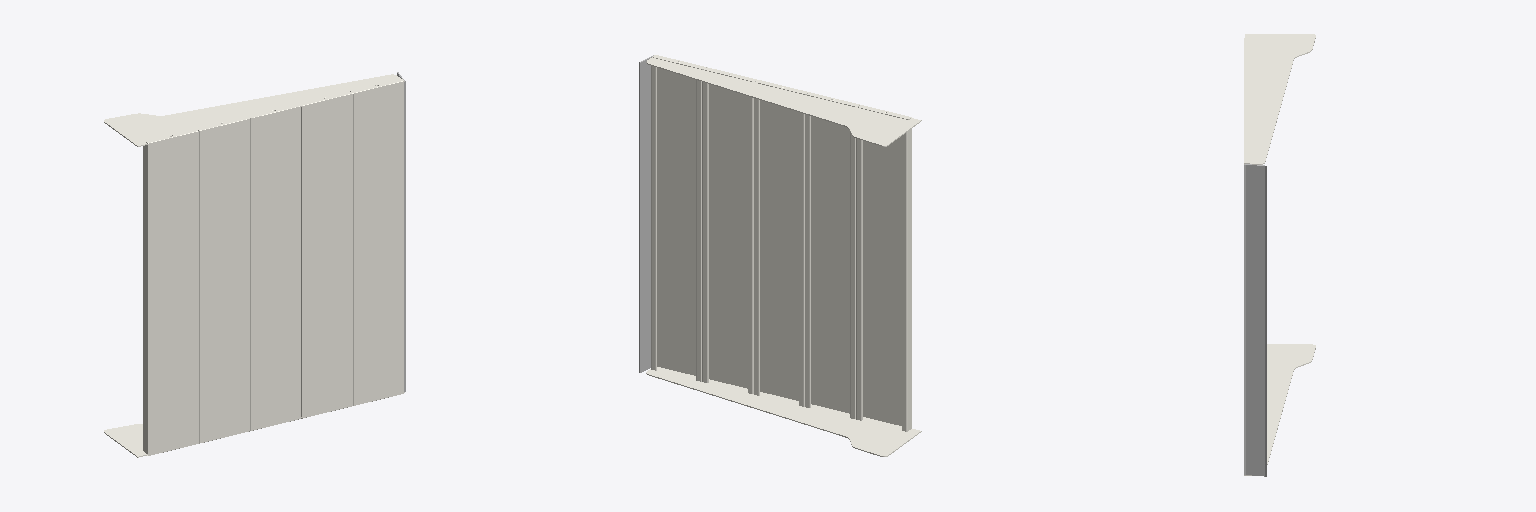
File: ShelfPart02.obj
3 views of the same model, side by side, from view 1: azimuth 30°, elevation 25°; view 2: azimuth 150°, elevation 25°; view 3: azimuth 270°, elevation 25° (orthographic).
Parts seen in each view (by area): view 1: ShelfPart02; view 2: ShelfPart02; view 3: ShelfPart02.
Part boxes in pixels (x1,y1,x2,y2): ShelfPart02: (104, 72, 405, 457); ShelfPart02: (639, 55, 921, 456); ShelfPart02: (1244, 34, 1315, 476).
Size of the model in its own units: 0.5592 by 0.6152 by 0.1283.